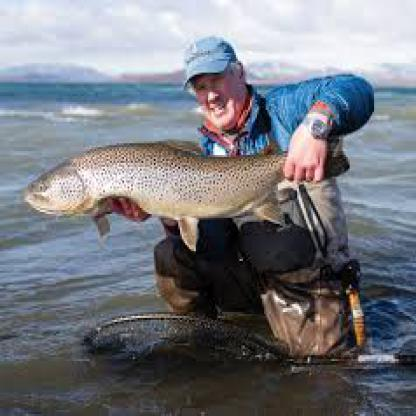fish: (25, 132, 350, 248)
